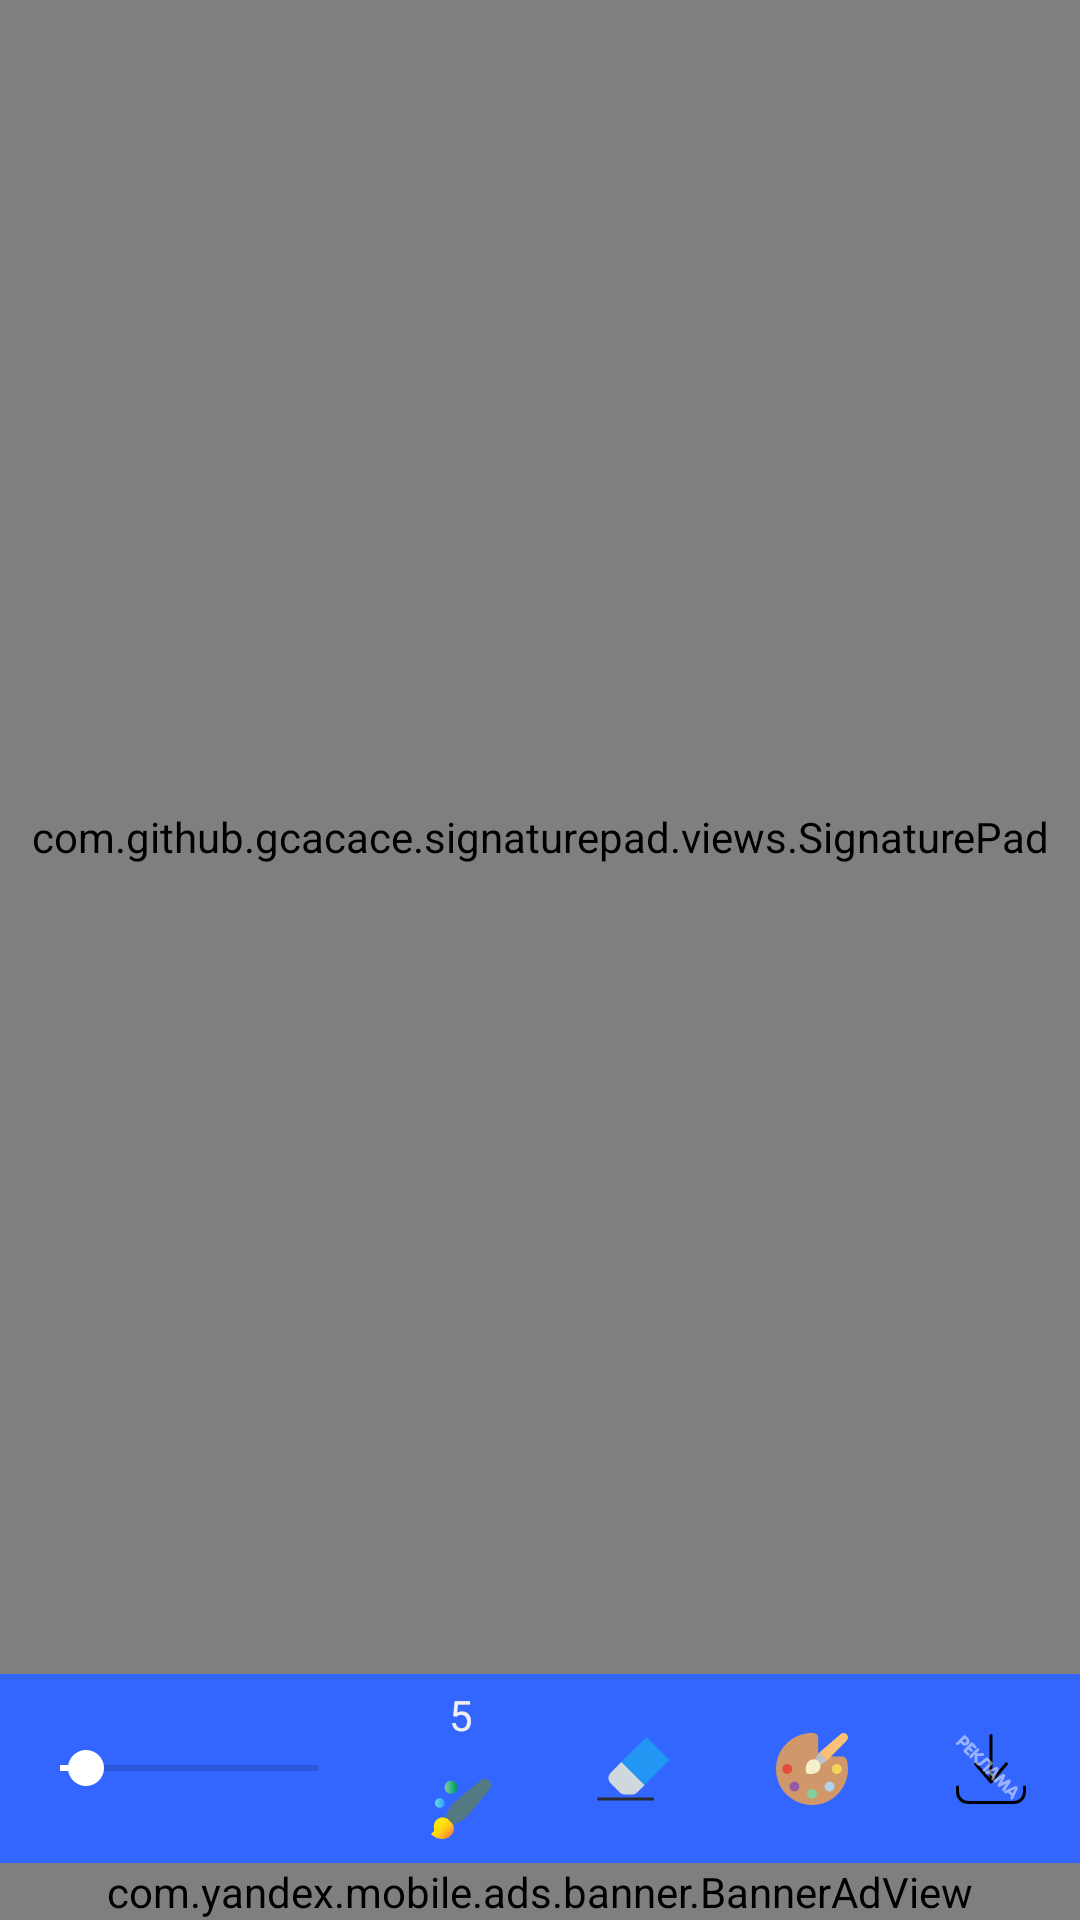

Icon click points for this 1080 × 1920 phone screenshot, format (x=x, y=y):
paint palette: (x=812, y=1769)
rubber: (x=633, y=1769)
save: (x=991, y=1769)
